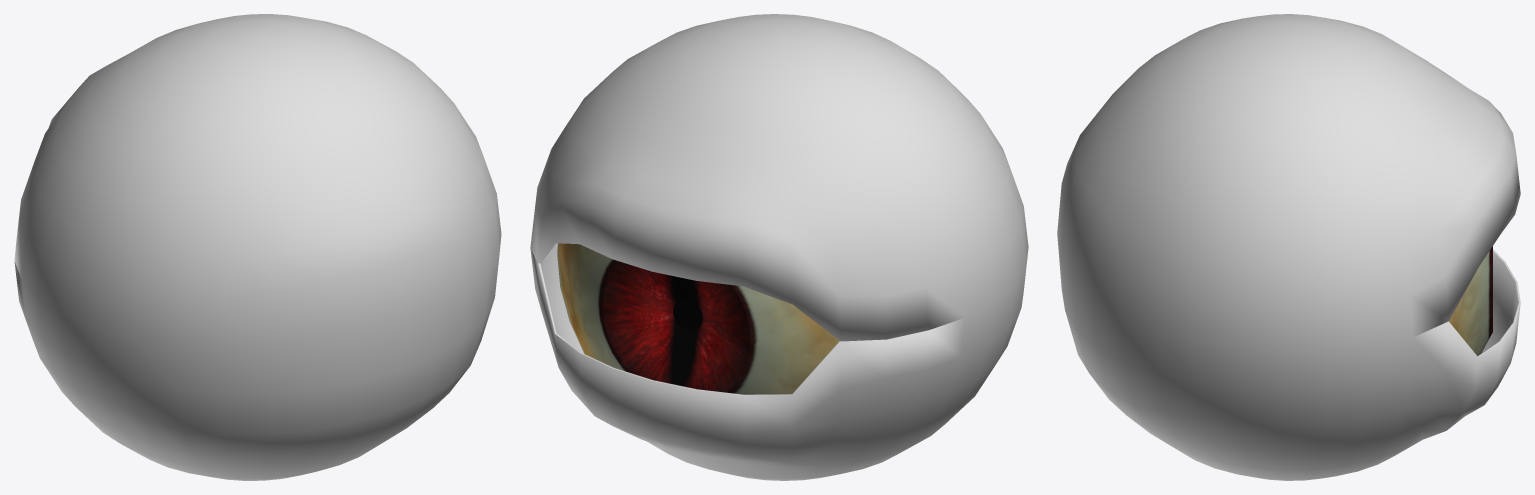
Rendered from kfc eye.fbx.
3 views of the same model, side by side, from view 1: azimuth 30°, elevation 25°; view 2: azimuth 150°, elevation 25°; view 3: azimuth 270°, elevation 25° (orthographic).
Parts seen in each view (by area): view 1: Sphere.001; view 2: Sphere.001, eye; view 3: Sphere.001, eye.
Part boxes in pixels (x1,y1,x2,y2): Sphere.001: [14, 14, 501, 480]; Sphere.001: [530, 14, 1028, 480]; eye: [557, 243, 839, 394]; Sphere.001: [1057, 14, 1520, 480]; eye: [1449, 246, 1492, 355].
Size of the model in its own units: 455 by 423 by 425.
1 material, 1 textured.
